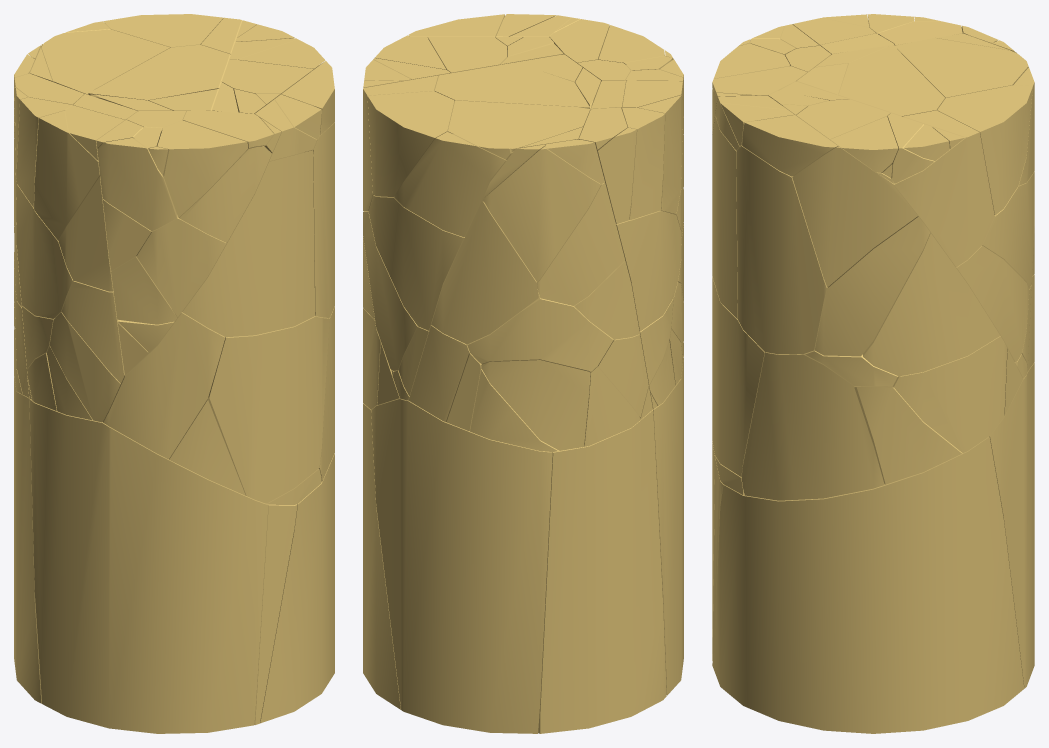
Rendered from Collectable_more_fractures.fbx.
3 views of the same model, side by side, from view 1: azimuth 30°, elevation 25°; view 2: azimuth 150°, elevation 25°; view 3: azimuth 270°, elevation 25° (orthographic).
Visible parts, largest first — view 1: Golden_Cylinder_cell.008, Golden_Cylinder_cell.004_cell.001, Golden_Cylinder_cell.004_cell.010, Golden_Cylinder_cell.003, Golden_Cylinder_cell.005, Golden_Cylinder_cell.004_cell.017, Golden_Cylinder_cell.001_cell.007, Golden_Cylinder_cell.007_cell.011, Golden_Cylinder_cell.002_cell.008, Golden_Cylinder_cell.002_cell.005, Golden_Cylinder_cell.002_cell.016, Golden_Cylinder_cell.007_cell.013 (+37 smaller); view 2: Golden_Cylinder_cell, Golden_Cylinder_cell.005, Golden_Cylinder_cell.009_cell.011, Golden_Cylinder_cell.009_cell.001, Golden_Cylinder_cell.008, Golden_Cylinder_cell.007_cell.009, Golden_Cylinder_cell.007_cell.008, Golden_Cylinder_cell.009_cell.013, Golden_Cylinder_cell.009_cell.012, Golden_Cylinder_cell.007_cell.006, Golden_Cylinder_cell.003, Golden_Cylinder_cell.009_cell.006 (+40 smaller); view 3: Golden_Cylinder_cell.003, Golden_Cylinder_cell.004_cell.012, Golden_Cylinder_cell.004_cell.007, Golden_Cylinder_cell.004_cell.015, Golden_Cylinder_cell.004_cell.013, Golden_Cylinder_cell.007_cell.010, Golden_Cylinder_cell, Golden_Cylinder_cell.004_cell.011, Golden_Cylinder_cell.004_cell.003, Golden_Cylinder_cell.004_cell.001, Golden_Cylinder_cell.007_cell.006, Golden_Cylinder_cell.004_cell.018 (+28 smaller).
Part boxes in pixels (bbox=[...]): Golden_Cylinder_cell.008: bbox=[29, 399, 268, 733]; Golden_Cylinder_cell.004_cell.001: bbox=[207, 316, 329, 503]; Golden_Cylinder_cell.004_cell.010: bbox=[182, 150, 315, 337]; Golden_Cylinder_cell.003: bbox=[260, 453, 334, 723]; Golden_Cylinder_cell.005: bbox=[14, 377, 297, 724]; Golden_Cylinder_cell.004_cell.017: bbox=[103, 309, 225, 459]; Golden_Cylinder_cell.001_cell.007: bbox=[34, 110, 99, 240]; Golden_Cylinder_cell.007_cell.011: bbox=[41, 29, 170, 94]; Golden_Cylinder_cell.002_cell.008: bbox=[156, 120, 247, 217]; Golden_Cylinder_cell.002_cell.005: bbox=[136, 214, 226, 316]; Golden_Cylinder_cell.002_cell.016: bbox=[97, 138, 176, 231]; Golden_Cylinder_cell.007_cell.013: bbox=[88, 44, 230, 100]; Golden_Cylinder_cell: bbox=[371, 399, 552, 733]; Golden_Cylinder_cell.005: bbox=[538, 410, 666, 733]; Golden_Cylinder_cell.009_cell.011: bbox=[431, 200, 538, 344]; Golden_Cylinder_cell.009_cell.001: bbox=[483, 146, 600, 282]; Golden_Cylinder_cell.008: bbox=[653, 357, 683, 695]; Golden_Cylinder_cell.007_cell.009: bbox=[368, 195, 464, 330]; Golden_Cylinder_cell.007_cell.008: bbox=[394, 131, 506, 237]; Golden_Cylinder_cell.009_cell.013: bbox=[481, 360, 590, 450]; Golden_Cylinder_cell.009_cell.012: bbox=[467, 289, 613, 372]; Golden_Cylinder_cell.007_cell.006: bbox=[367, 91, 454, 196]; Golden_Cylinder_cell.003: bbox=[363, 403, 400, 709]; Golden_Cylinder_cell.009_cell.006: bbox=[536, 182, 624, 305]; Golden_Cylinder_cell.003: bbox=[713, 436, 1024, 733]; Golden_Cylinder_cell.004_cell.012: bbox=[741, 352, 884, 500]; Golden_Cylinder_cell.004_cell.007: bbox=[736, 146, 827, 354]; Golden_Cylinder_cell.004_cell.015: bbox=[862, 233, 1000, 376]; Golden_Cylinder_cell.004_cell.013: bbox=[792, 146, 918, 287]; Golden_Cylinder_cell.007_cell.010: bbox=[849, 110, 994, 267]; Golden_Cylinder_cell: bbox=[989, 362, 1034, 688]; Golden_Cylinder_cell.004_cell.011: bbox=[894, 336, 1007, 452]; Golden_Cylinder_cell.004_cell.003: bbox=[814, 217, 930, 356]; Golden_Cylinder_cell.004_cell.001: bbox=[712, 277, 764, 476]; Golden_Cylinder_cell.007_cell.006: bbox=[937, 85, 1032, 215]; Golden_Cylinder_cell.004_cell.018: bbox=[854, 386, 962, 484].
Size of the model in its own units: 100 by 200 by 100.
